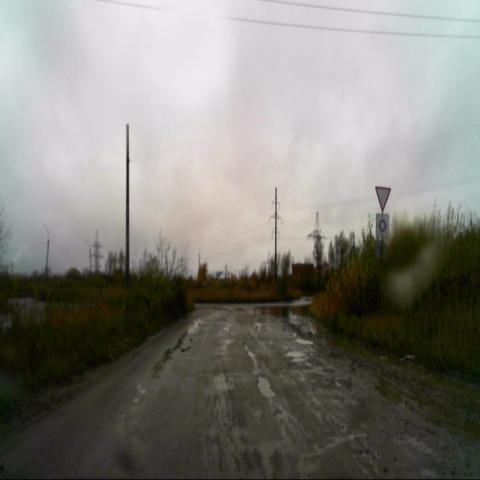8_13_1: (375, 212, 390, 239)
